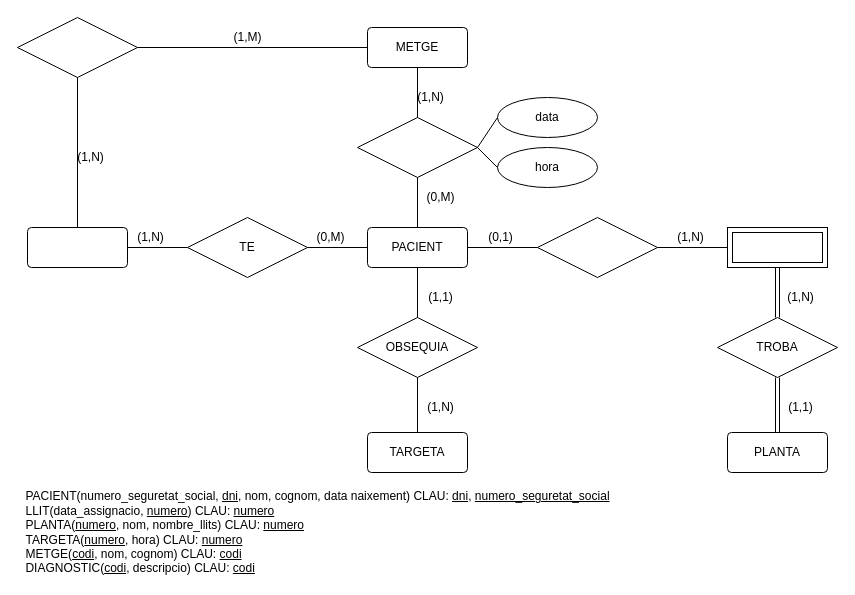
Image size: 855x595. Some labels were removed from this diagram. The shapes that lost their labels are listed below. From the top down, each one's centre as x and y in pixels, then its label:
At pixel 77 47: "TRACTA".
At pixel 417 147: "VISITA".
At pixel 77 247: "DIAGNOSTIC".
At pixel 597 247: "ASSIGNAT".
At pixel 777 247: "LLIT".
